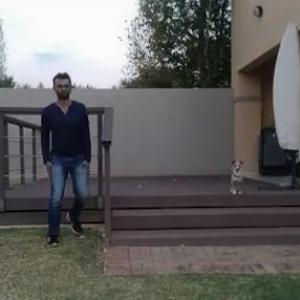follow: (39, 72, 90, 237)
